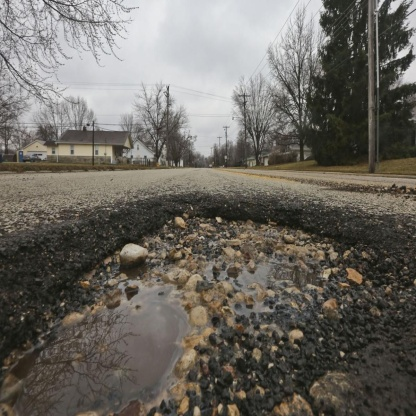pothole: (1, 189, 416, 415)
